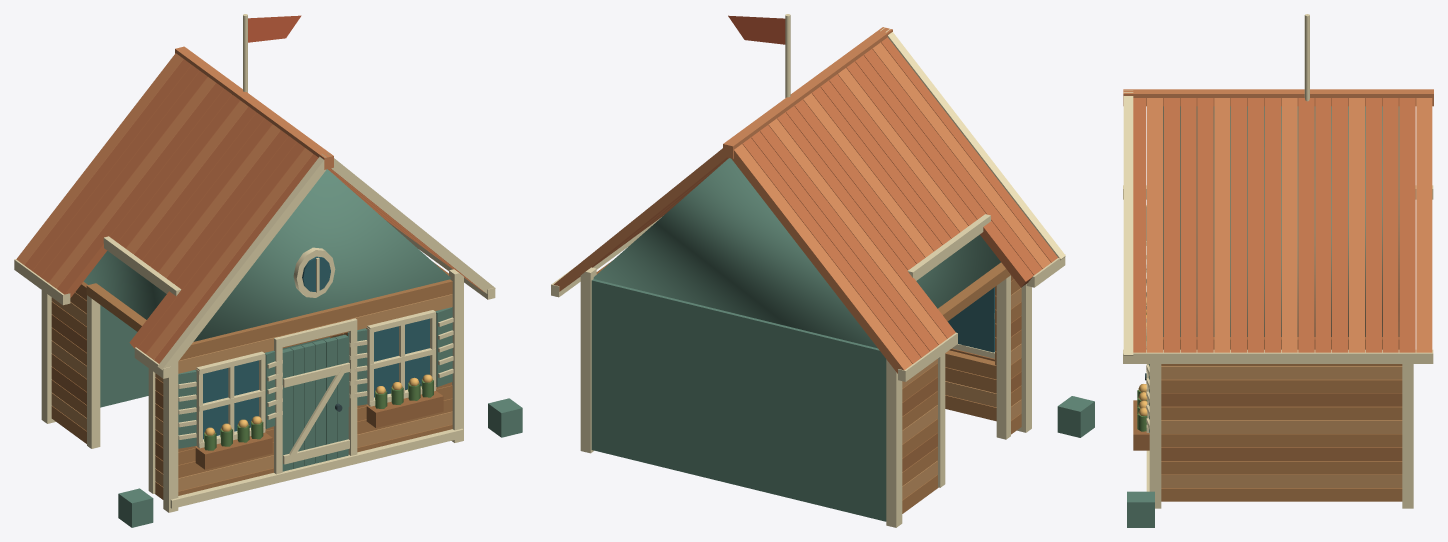
The model's file is treehouse_cabin.glb.
The picture shows the model from 3 angles, left to right: view 1: azimuth 30°, elevation 25°; view 2: azimuth 150°, elevation 25°; view 3: azimuth 270°, elevation 25°; orthographic projection. The views are drawn at different scales.
Parts seen in each view (by area): view 1: Gables, CreamGableFascia, BackWall, Sill, RoofBoard6, RoofBoard, RoofBoard3, RoofBoard4, RoofBoard5, RoofBoard17, RoofBoard2, RoofBoard16 (+53 smaller); view 2: BackWall, Gables, RoofBoard, RoofBoard15, RoofBoard3, RoofBoard4, RoofBoard5, RoofBoard17, RoofBoard2, RoofBoard6, RoofBoard16, CornerPost (+26 smaller); view 3: Gables, RoofBoard19, RoofBoard20, RoofBoard21, RoofBoard22, RoofBoard24, RoofBoard25, RoofBoard27, RoofBoard28, RoofBoard30, RoofBoard31, RoofBoard32 (+26 smaller).
Part boxes in pixels (x1=…): Gables: x1=83, y1=169, x2=450, y2=341; CreamGableFascia: x1=157, y1=154, x2=326, y2=370; BackWall: x1=100, y1=305, x2=329, y2=407; Sill: x1=170, y1=428, x2=463, y2=508; RoofBoard6: x1=57, y1=83, x2=223, y2=297; RoofBoard: x1=16, y1=53, x2=183, y2=264; RoofBoard3: x1=32, y1=65, x2=199, y2=276; RoofBoard4: x1=41, y1=71, x2=207, y2=282; RoofBoard5: x1=49, y1=77, x2=215, y2=288; RoofBoard17: x1=146, y1=148, x2=312, y2=359; RoofBoard2: x1=24, y1=59, x2=191, y2=270; RoofBoard16: x1=138, y1=142, x2=304, y2=353; BackWall: x1=591, y1=279, x2=886, y2=521; Gables: x1=593, y1=158, x2=1000, y2=348; RoofBoard: x1=731, y1=144, x2=912, y2=373; RoofBoard15: x1=855, y1=55, x2=1033, y2=287; RoofBoard3: x1=751, y1=131, x2=929, y2=357; RoofBoard4: x1=760, y1=125, x2=938, y2=351; RoofBoard5: x1=768, y1=118, x2=946, y2=344; RoofBoard17: x1=872, y1=42, x2=1050, y2=268; RoofBoard2: x1=742, y1=137, x2=920, y2=363; RoofBoard6: x1=777, y1=112, x2=955, y2=338; RoofBoard16: x1=864, y1=49, x2=1042, y2=275; CornerPost: x1=886, y1=359, x2=902, y2=527; Gables: x1=1163, y1=106, x2=1399, y2=336; RoofBoard19: x1=1416, y1=98, x2=1432, y2=352; RoofBoard20: x1=1399, y1=98, x2=1415, y2=352; RoofBoard21: x1=1382, y1=98, x2=1398, y2=352; RoofBoard22: x1=1365, y1=98, x2=1381, y2=352; RoofBoard24: x1=1332, y1=98, x2=1348, y2=352; RoofBoard25: x1=1315, y1=98, x2=1331, y2=352; RoofBoard27: x1=1281, y1=98, x2=1297, y2=352; RoofBoard28: x1=1264, y1=98, x2=1280, y2=352; RoofBoard30: x1=1231, y1=98, x2=1247, y2=352; RoofBoard31: x1=1214, y1=98, x2=1230, y2=352; RoofBoard32: x1=1197, y1=98, x2=1213, y2=352.
Size of the model in its own units: 8 by 7.92 by 5.3.
